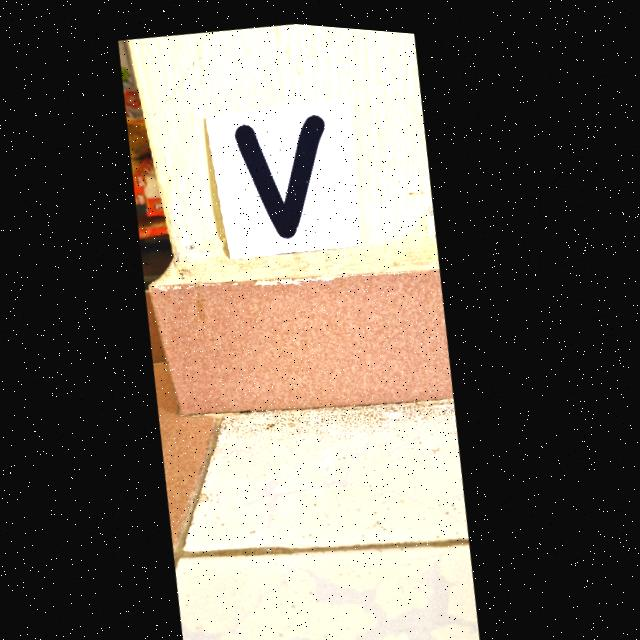V: (236, 110, 325, 232)
